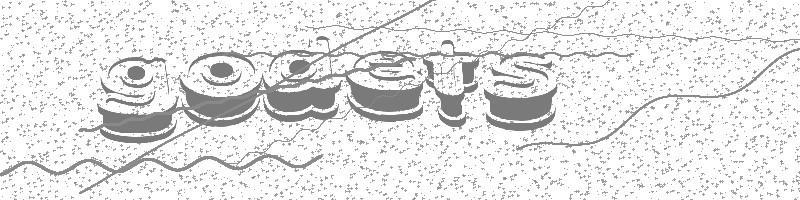d: (259, 32, 341, 123)
e: (345, 47, 424, 123)
g: (97, 51, 180, 142)
o: (180, 46, 263, 128)
s: (484, 49, 559, 134)
t: (420, 36, 483, 128)
